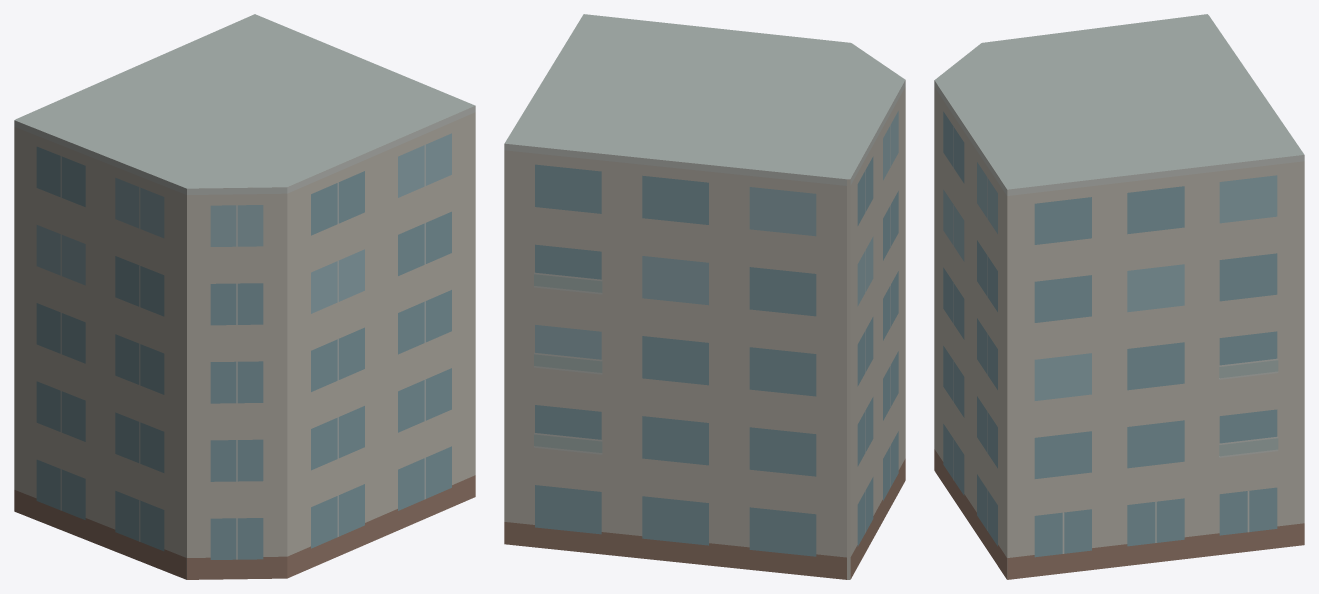
Rendered from survey-upis-32621334.glb.
The picture shows the model from 3 angles, left to right: view 1: azimuth 30°, elevation 25°; view 2: azimuth 150°, elevation 25°; view 3: azimuth 270°, elevation 25°; orthographic projection. The views are drawn at different scales.
Visible parts, largest first — view 1: survey-upis-32621334.tmp; view 2: survey-upis-32621334.tmp; view 3: survey-upis-32621334.tmp.
Boxes of the visible parts, x1,y1,x2,y2 form: survey-upis-32621334.tmp: (14, 14, 475, 579); survey-upis-32621334.tmp: (504, 14, 905, 579); survey-upis-32621334.tmp: (934, 14, 1304, 579).
Bounding box in the file's own units: 14.2 × 14.7 × 12.65.
